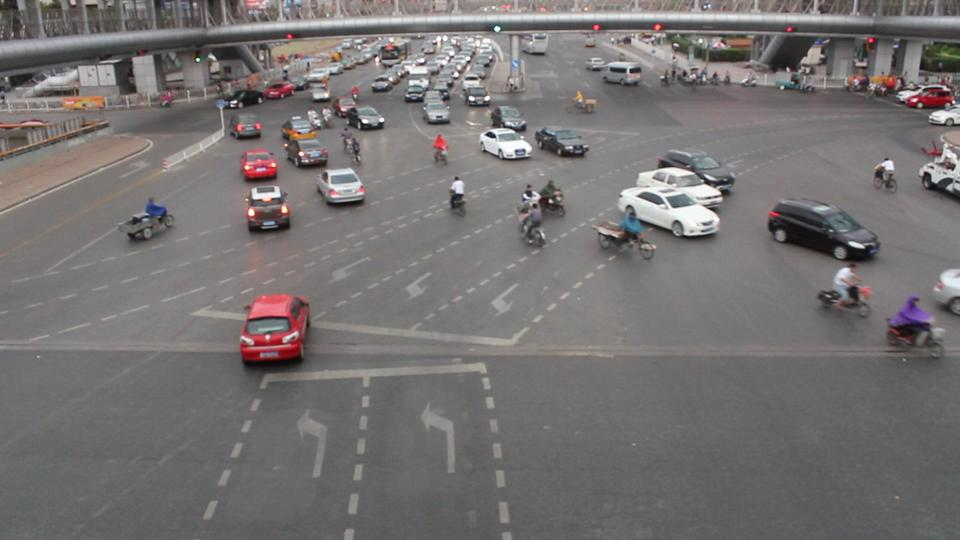Car: (767, 197, 872, 258), (238, 292, 311, 365), (615, 188, 718, 234), (633, 166, 720, 209), (654, 147, 731, 189), (243, 185, 292, 234), (316, 167, 363, 207), (478, 127, 533, 158), (535, 125, 587, 157), (285, 136, 327, 168), (240, 148, 278, 183), (931, 262, 960, 307), (280, 115, 317, 142), (230, 112, 264, 140)
